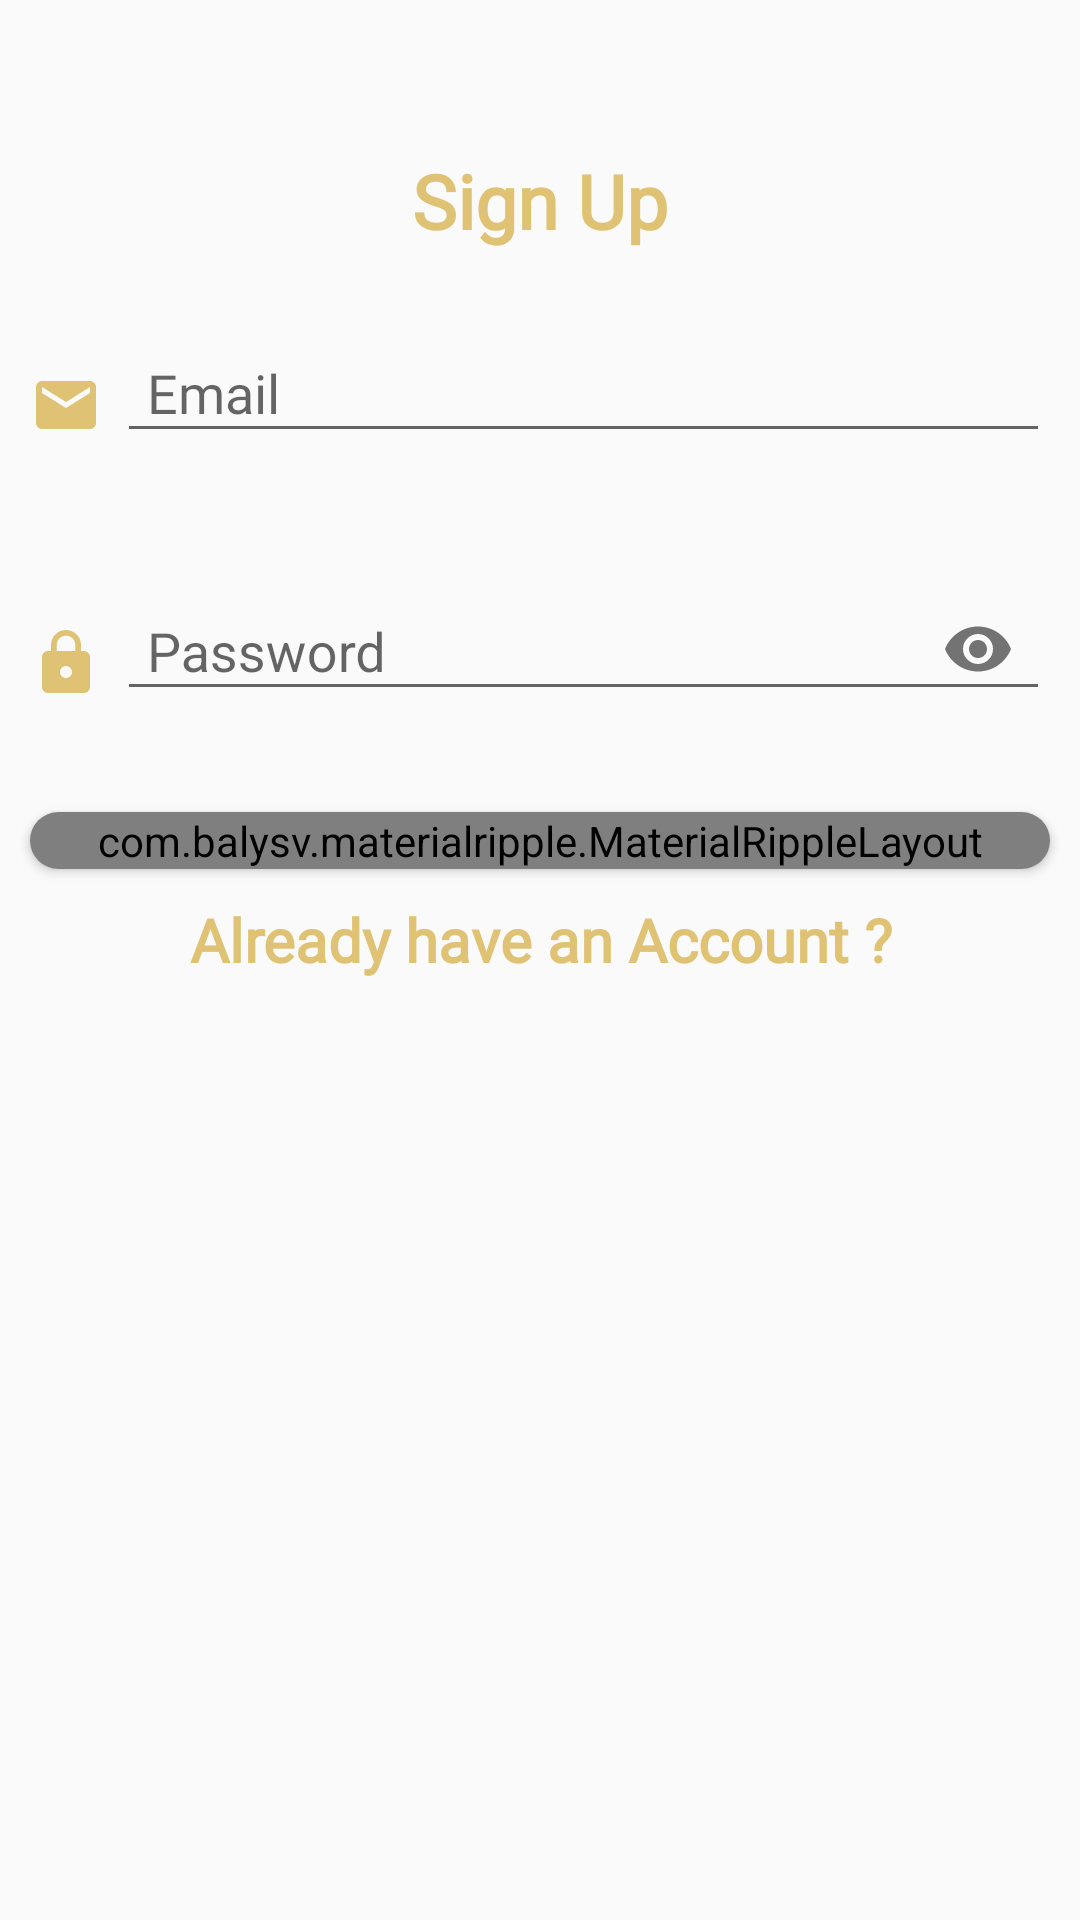

Screen size 1080×1920. Icon name, then its box in pixels as bbox=(x1, y1, x2, y2):
email: bbox=(36, 381, 96, 429)
password: bbox=(42, 630, 90, 693)
